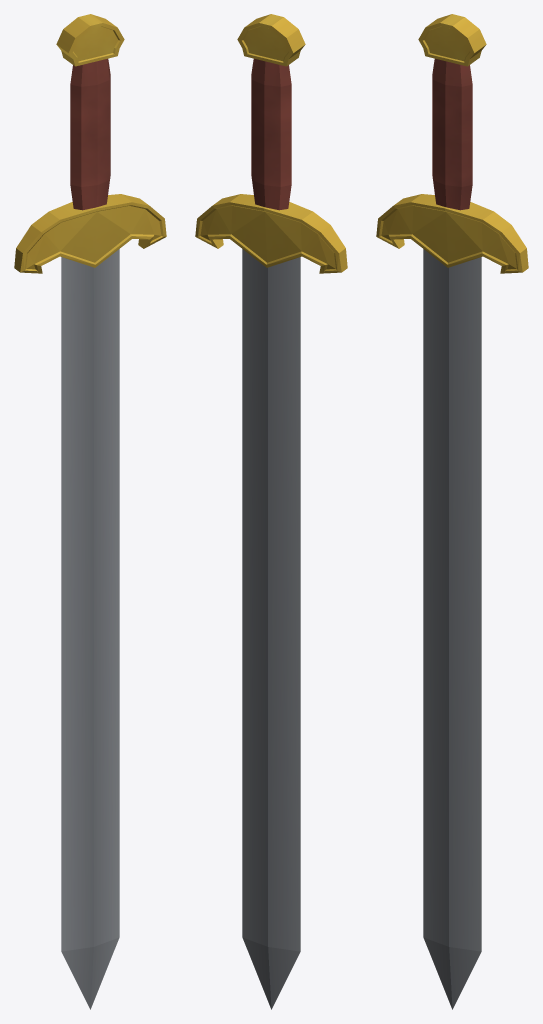
Rendered from sword_2_sign.fbx.
The picture shows the model from 3 angles, left to right: view 1: azimuth 30°, elevation 25°; view 2: azimuth 150°, elevation 25°; view 3: azimuth 330°, elevation 25°; orthographic projection.
Visible parts, largest first — view 1: Sword_2_sign; view 2: Sword_2_sign; view 3: Sword_2_sign.
Part boxes in pixels (x1,y1,x2,y2): Sword_2_sign: (14, 14, 166, 1009); Sword_2_sign: (195, 14, 347, 1009); Sword_2_sign: (376, 14, 528, 1009).
Size of the model in its own units: 0.1535 by 0.9914 by 0.0272.
Materials: 1 (1 with a texture image).
